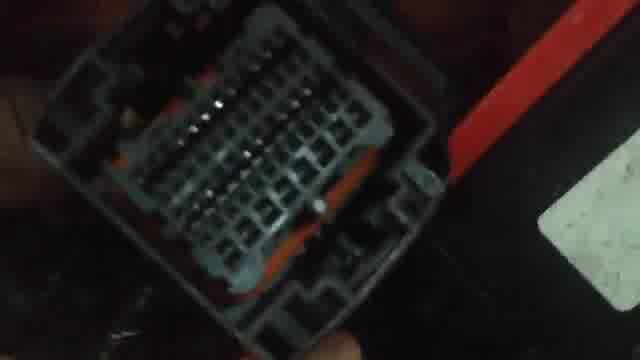connector: (34, 2, 449, 354)
